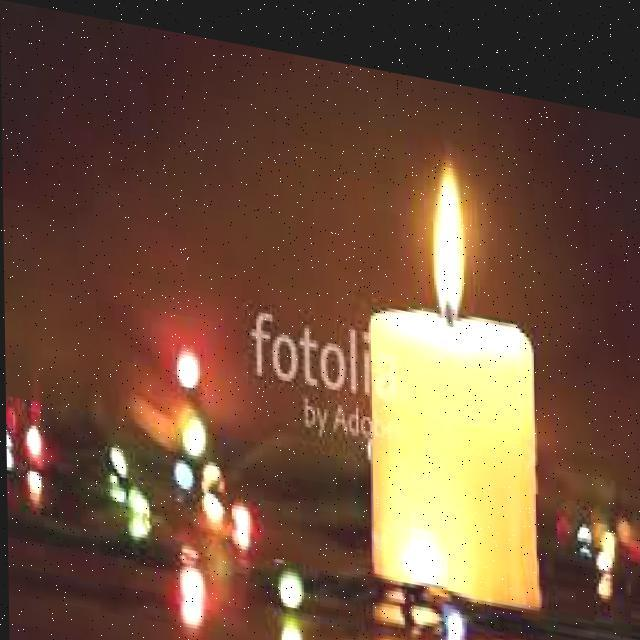Fire: (418, 132, 473, 295)
